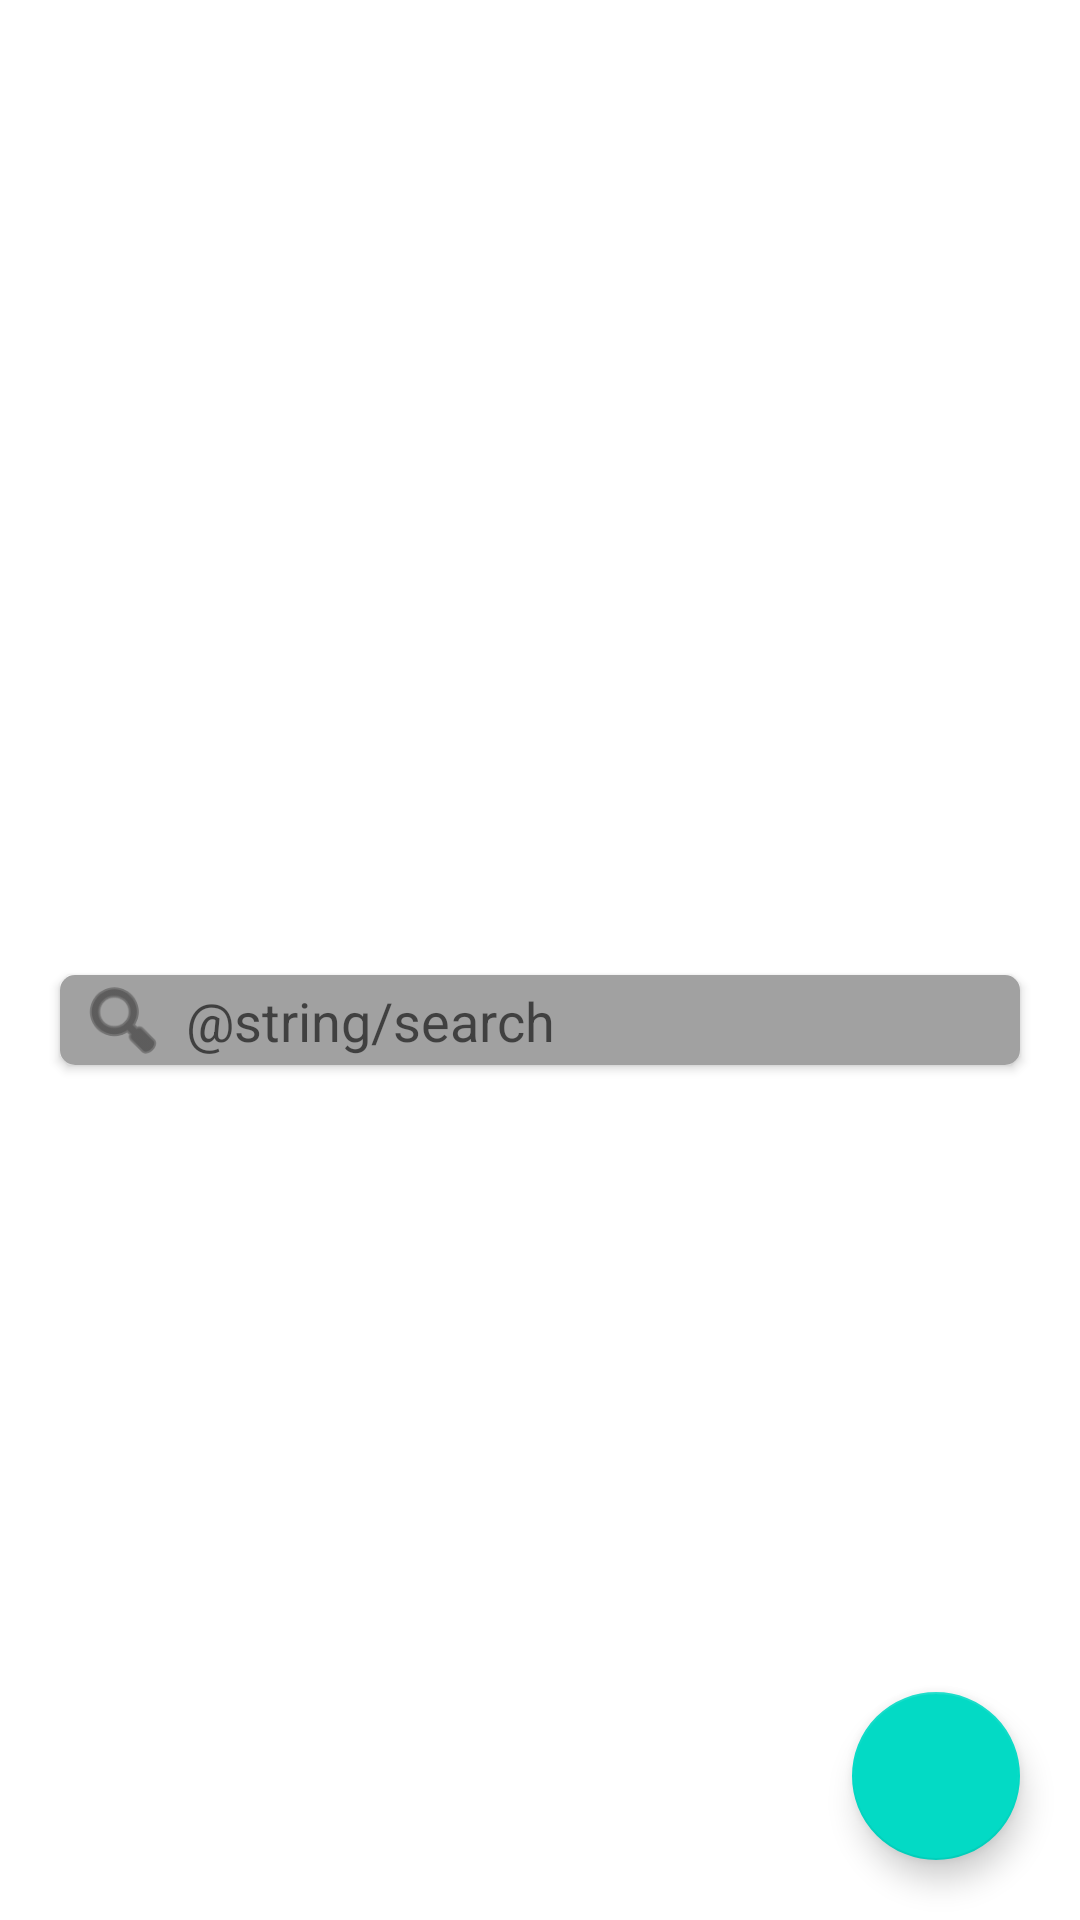

Icons on this 1080 x 1920 Android screen, each with its box as (x1, y1, x2, y2):
search: (90, 987, 156, 1054)
